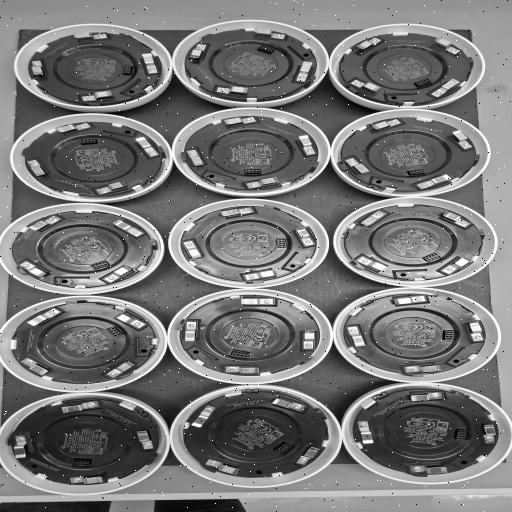konnektor: (453, 427, 472, 443), (228, 348, 253, 360), (270, 441, 293, 454), (119, 61, 136, 77), (105, 324, 124, 338), (239, 167, 267, 176), (420, 252, 442, 263), (441, 327, 455, 344), (273, 236, 289, 250), (256, 44, 276, 55), (71, 458, 95, 467), (401, 168, 427, 176), (89, 261, 110, 270), (75, 138, 102, 145), (414, 78, 432, 88)
yaysiz: (62, 469, 119, 486), (269, 396, 313, 416), (287, 58, 319, 85), (203, 454, 244, 475), (246, 24, 292, 42), (110, 216, 146, 239), (57, 398, 103, 416), (187, 404, 216, 432), (130, 426, 158, 454), (432, 36, 467, 58), (18, 356, 54, 377), (24, 215, 68, 232), (25, 308, 62, 328), (398, 358, 444, 374), (342, 324, 370, 350), (130, 134, 160, 158), (290, 327, 320, 351), (220, 362, 264, 378), (435, 210, 474, 228), (431, 77, 464, 98), (290, 134, 320, 157), (238, 268, 287, 282), (110, 310, 146, 329), (465, 318, 489, 346), (356, 256, 393, 274), (94, 179, 133, 196), (356, 210, 389, 230), (9, 431, 31, 461), (405, 463, 455, 476), (440, 256, 476, 274), (25, 158, 53, 181), (352, 35, 384, 55), (18, 260, 50, 280), (445, 128, 474, 150), (355, 418, 376, 448), (140, 50, 164, 76), (344, 156, 372, 178), (404, 390, 448, 404), (213, 83, 254, 98), (299, 444, 322, 470), (417, 173, 452, 190), (104, 264, 137, 282), (238, 294, 280, 308), (350, 77, 384, 94), (28, 58, 51, 83), (185, 147, 210, 170), (477, 422, 500, 447), (389, 295, 430, 309), (182, 318, 204, 344), (365, 118, 403, 133), (107, 360, 137, 379), (245, 176, 285, 190), (74, 90, 117, 103), (219, 116, 257, 130), (187, 42, 211, 64), (293, 224, 315, 248), (54, 122, 97, 134), (66, 32, 114, 42), (214, 206, 256, 217), (182, 240, 204, 260)
